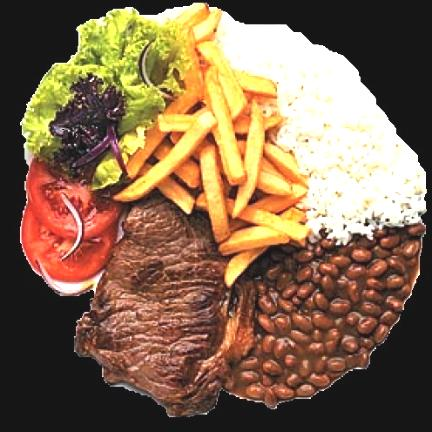beans: (225, 224, 424, 406)
meat: (77, 193, 251, 415)
potato: (116, 5, 308, 286)
rice: (216, 14, 426, 242)
salad: (23, 8, 189, 188)
tomato: (22, 159, 120, 281)
